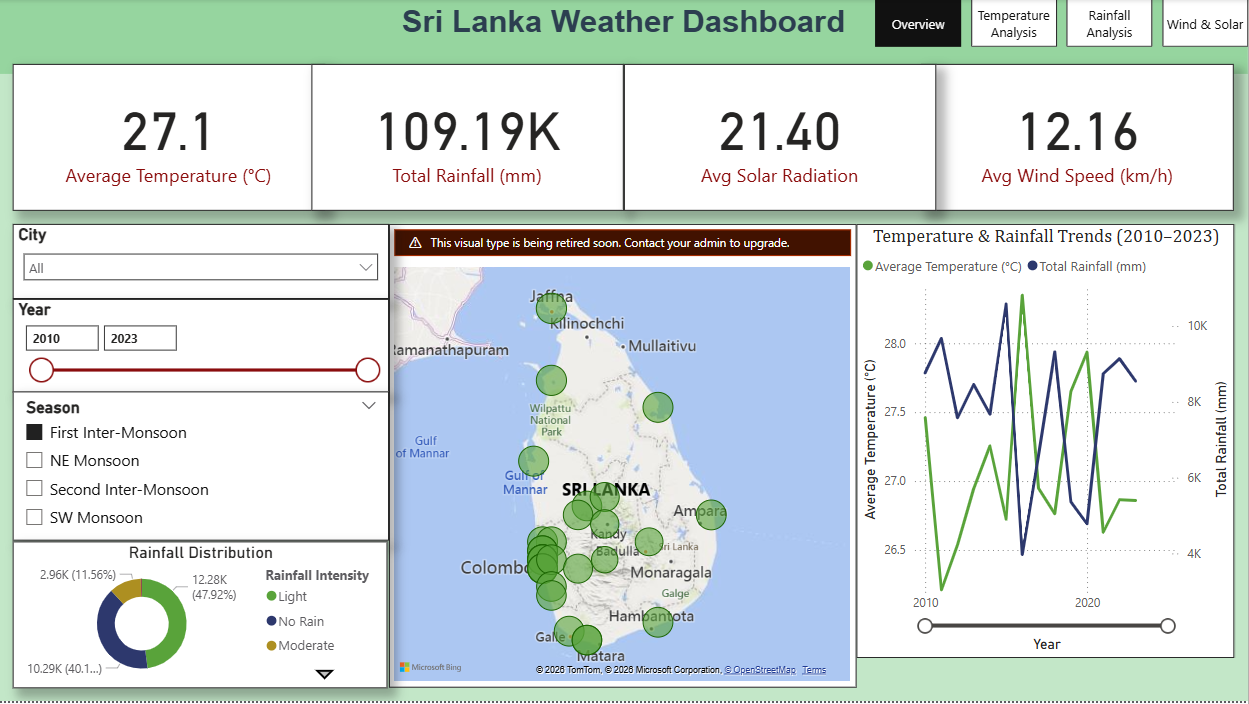

The page's visual inventory and layout, read from the dashboard file:
{"tool":"powerbi","page":{"name":"Overview","canvas":[1280,720],"ordinal":0},"visuals":[{"type":"textbox","box":[0,0,1280.3,77],"z":0},{"type":"card","fields":{"Values":["DateTable.Avg Mean Temp"]},"box":[14.3,66,320,150],"z":1000},{"type":"card","fields":{"Values":["DateTable.Total Rainfall"]},"box":[319.7,66.7,319.7,150],"z":2000},{"type":"card","fields":{"Values":["DateTable.Avg Wind Speed"]},"box":[945.7,66,320,150],"z":3000},{"type":"card","fields":{"Values":["DateTable.Avg Solar Radiation"]},"box":[640.9,66.7,319.7,150],"z":4000},{"type":"map","fields":{"Y":["Avg(SriLanka_Weather_in_Years.latitude)"],"X":["Avg(SriLanka_Weather_in_Years.longitude)"],"Category":["SriLanka_Weather_in_Years.city"],"Size":["DateTable.Average Temperature (°C)"]},"box":[400,230.9,479.4,475],"z":5000},{"type":"lineChart","title":"Temperature & Rainfall Trends (2010–2023)","fields":{"Category":["DateTable.Year"],"Y":["DateTable.Average Temperature (°C)"],"Y2":["DateTable.Total Rainfall (mm)"]},"box":[878.6,230.4,387.5,444.6],"z":6000},{"type":"slicer","title":"City","fields":{"Values":["SriLanka_Weather_in_Years.city"]},"box":[14.7,230.9,385.3,76.5],"z":7000},{"type":"slicer","title":"Year","fields":{"Values":["DateTable.Year"]},"box":[14.3,307.1,385.7,95.7],"z":8000},{"type":"slicer","fields":{"Values":["SriLanka_Weather_in_Years.Season"]},"box":[14.3,402.9,385.7,152.9],"z":9000},{"type":"donutChart","title":"Rainfall Distribution","fields":{"Category":["SriLanka_Weather_in_Years.Rainfall Intensity"],"Y":["CountNonNull(SriLanka_Weather_in_Years.time)"]},"box":[14.3,555.7,384.3,150],"z":10000},{"type":"pageNavigator","box":[898.2,0,382.1,50],"z":10001}]}

Visuals, with their boxes in screenshot pixels (x1, y1, x2, y2), scaled from the page's 1280x720 canvas onto the 1249x704 screenshot:
textbox: left=0, top=0, right=1248, bottom=75
card - DateTable.Avg Mean Temp: left=14, top=65, right=326, bottom=211
card - DateTable.Total Rainfall: left=312, top=65, right=624, bottom=212
card - DateTable.Avg Wind Speed: left=923, top=65, right=1235, bottom=211
card - DateTable.Avg Solar Radiation: left=625, top=65, right=937, bottom=212
map - Avg(SriLanka_Weather_in_Years.latitude) x Avg(SriLanka_Weather_in_Years.longitude): left=390, top=226, right=858, bottom=690
"Temperature & Rainfall Trends (2010–2023)" lineChart: left=857, top=225, right=1235, bottom=660
"City" slicer: left=14, top=226, right=390, bottom=301
"Year" slicer: left=14, top=300, right=390, bottom=394
slicer - SriLanka_Weather_in_Years.Season: left=14, top=394, right=390, bottom=543
"Rainfall Distribution" donutChart: left=14, top=543, right=389, bottom=690
pageNavigator: left=876, top=0, right=1248, bottom=49
